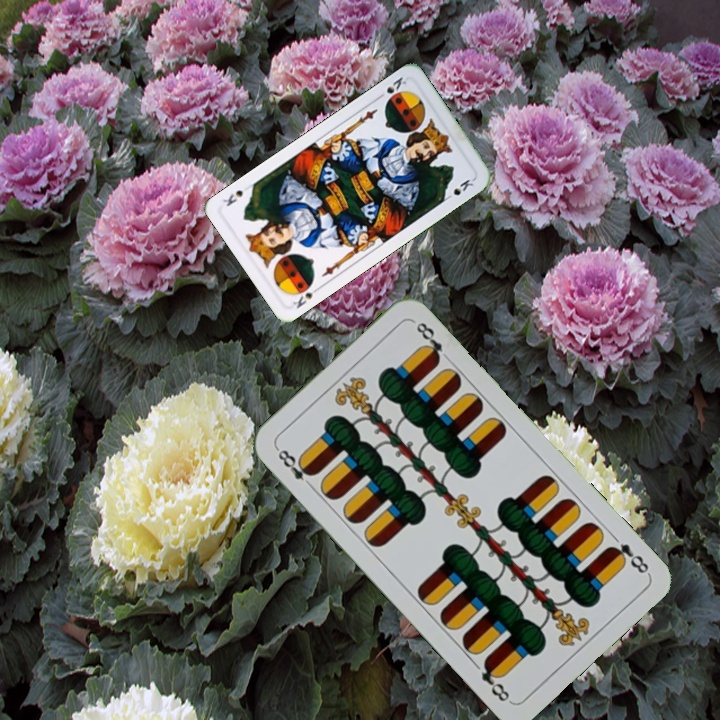E8: (271, 444, 317, 492), (603, 539, 653, 577)
SK: (373, 73, 409, 105), (289, 278, 323, 311)
